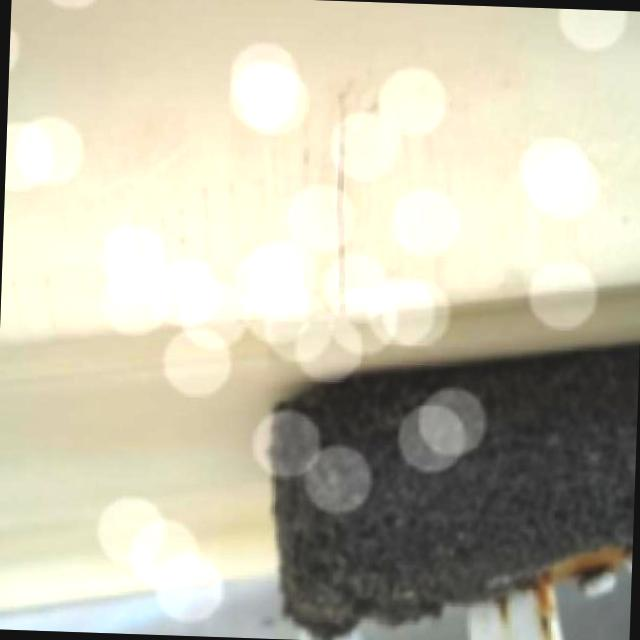crack: (332, 98, 353, 314)
